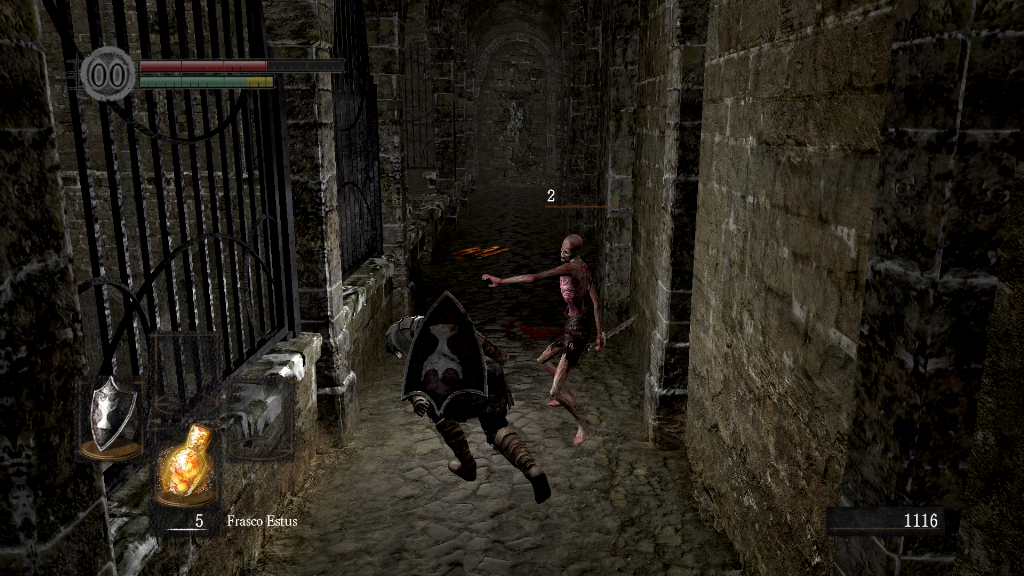health: (138, 58, 343, 71)
hollow: (481, 234, 608, 450)
humanity: (80, 45, 136, 102)
player: (385, 292, 556, 507)
souls: (825, 506, 945, 536)
stamina: (138, 74, 274, 88)
